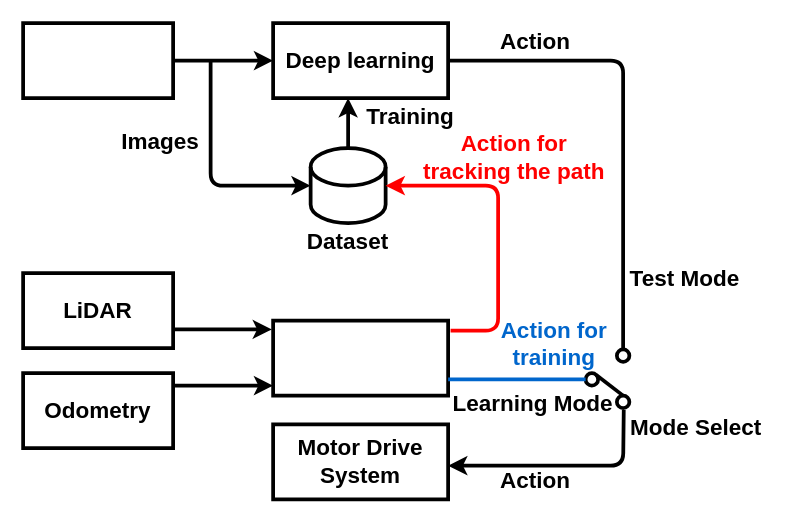
Some shapes in this 790 by 523 pixel diagram are drawn without their labels. The centre of each missing label's shape, as x and y in pixels:
Cameras: the point at 97,60
Rule-based Controller: the point at 360,357
